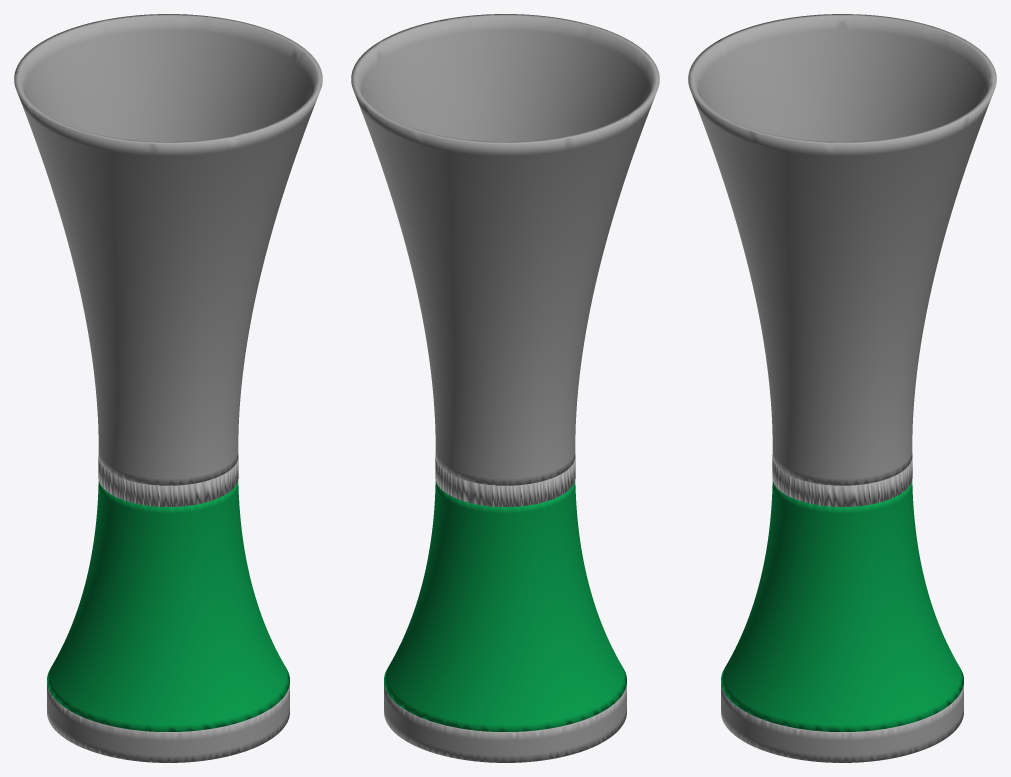
Rendered from UEFA-Europa-Conference-League-D1.glb.
The picture shows the model from 3 angles, left to right: view 1: azimuth 30°, elevation 25°; view 2: azimuth 150°, elevation 25°; view 3: azimuth 270°, elevation 25°; orthographic projection.
Visible parts, largest first — view 1: TOp, Bottom, lower, Middle; view 2: TOp, Bottom, lower, Middle; view 3: TOp, Bottom, lower, Middle.
Part boxes in pixels (x1,y1,x2,y2): TOp: (14, 14, 322, 485); Bottom: (47, 481, 289, 731); lower: (47, 684, 289, 762); Middle: (98, 455, 238, 506); TOp: (351, 14, 659, 485); Bottom: (384, 481, 626, 731); lower: (384, 684, 626, 762); Middle: (435, 455, 575, 506); TOp: (688, 14, 996, 485); Bottom: (721, 481, 963, 731); lower: (721, 684, 963, 762); Middle: (772, 455, 912, 506).
Size of the model in its own units: 0.0856 by 0.1936 by 0.0856.
